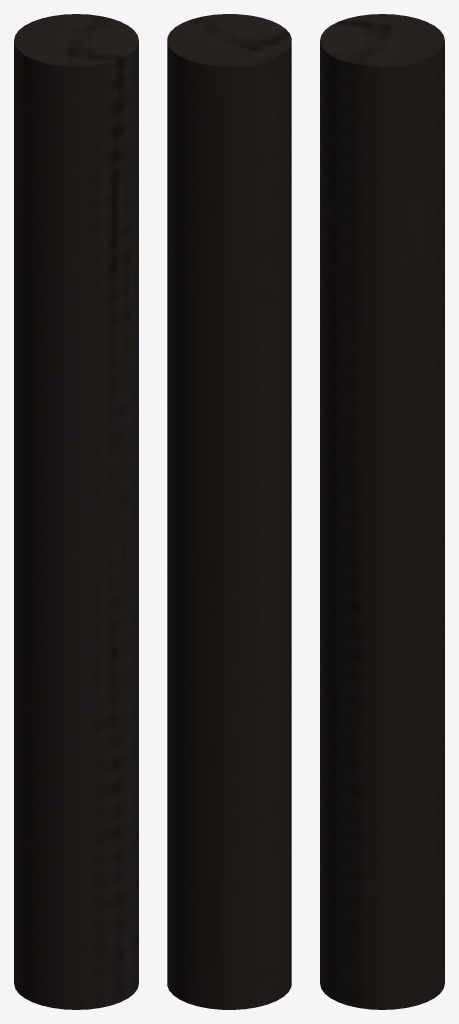
The model's file is backrest__backrest_hinge_tube.glb.
3 views of the same model, side by side, from view 1: azimuth 90°, elevation 25°; view 2: azimuth 150°, elevation 25°; view 3: azimuth 270°, elevation 25° (orthographic).
Parts seen in each view (by area): view 1: world; view 2: world; view 3: world.
Part boxes in pixels (x1=…): world: x1=14, y1=14, x2=138, y2=1009; world: x1=167, y1=14, x2=291, y2=1009; world: x1=320, y1=14, x2=444, y2=1009.
Bounding box in the file's own units: 0.03 × 0.25 × 0.03.
Materials: 1 (1 with a texture image).
